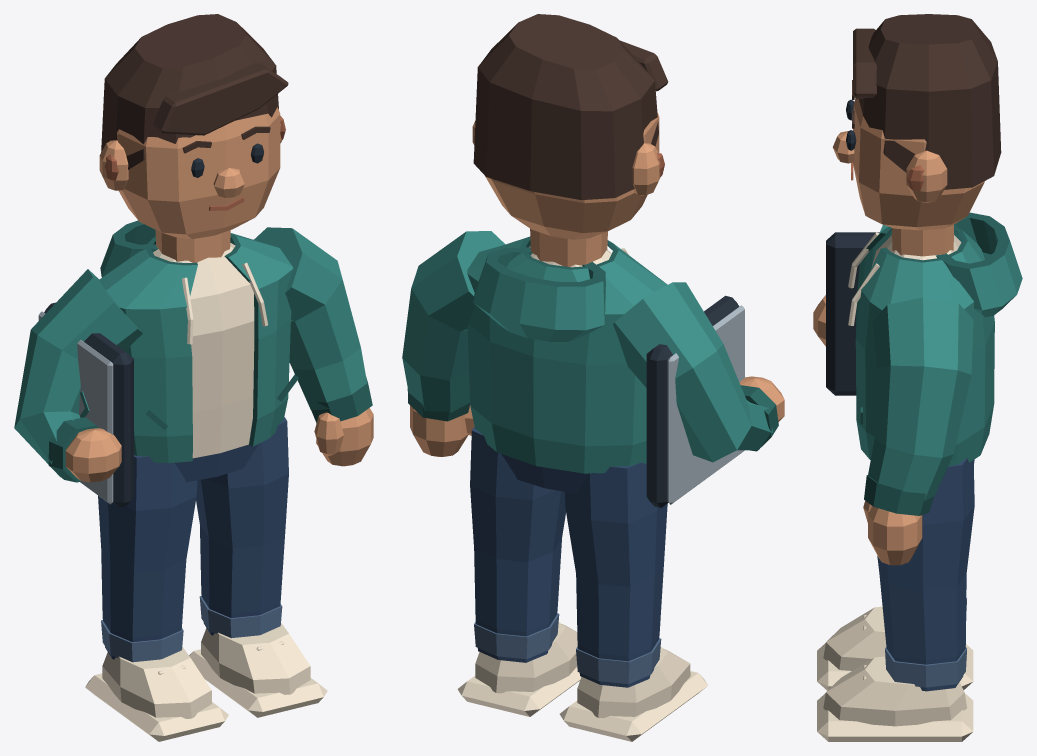
The model's file is copilot_human_developer_v01.glb.
3 renders of one model, left to right at view 1: azimuth 30°, elevation 25°; view 2: azimuth 150°, elevation 25°; view 3: azimuth 270°, elevation 25°, orthographic. The views are drawn at different scales.
Visible parts, largest first — view 1: casual_developer; view 2: casual_developer; view 3: casual_developer.
Part boxes in pixels (x1,y1,x2,y2): casual_developer: (14,14,373,741); casual_developer: (402,14,784,741); casual_developer: (813,14,1022,741).
Size of the model in its own units: 1.62 by 2.98 by 0.8299.
Materials: 1 (1 with a texture image).
